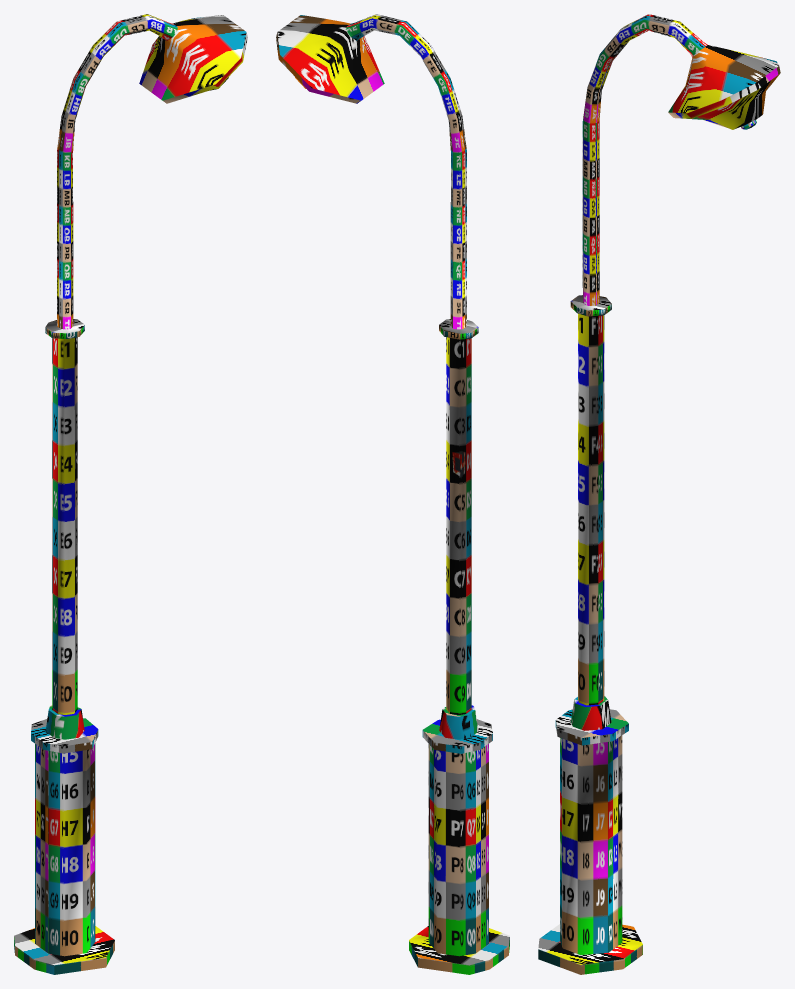
The model's file is lamp post.FBX.
3 renders of one model, left to right at view 1: azimuth 30°, elevation 25°; view 2: azimuth 150°, elevation 25°; view 3: azimuth 330°, elevation 25°, orthographic. The views are drawn at different scales.
Parts seen in each view (by area): view 1: lamp post; view 2: lamp post; view 3: lamp post.
Part boxes in pixels (x1=…): lamp post: x1=14, y1=14, x2=247, y2=974; lamp post: x1=276, y1=14, x2=509, y2=974; lamp post: x1=538, y1=14, x2=780, y2=974.
Bounding box in the file's own units: 29.5 × 122 × 14.25.
1 material, 1 textured.
